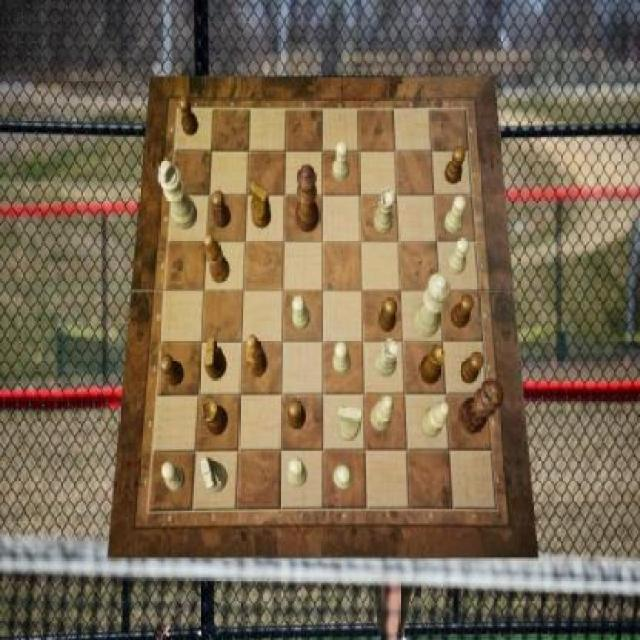bishop: (206, 234, 231, 283), (246, 335, 269, 378)
black-bishop: (458, 378, 504, 434)
black-king: (249, 182, 272, 229), (205, 337, 227, 379)
black-knight: (444, 146, 466, 184), (178, 97, 198, 137), (451, 296, 474, 330), (160, 354, 184, 386), (460, 352, 483, 385), (212, 191, 232, 228), (378, 297, 398, 331), (286, 400, 306, 431)
black-pawn: (296, 166, 320, 234)
black-queen: (420, 344, 446, 384), (202, 399, 228, 436)
black-rook: (422, 402, 451, 439), (370, 395, 394, 433)
white-bishop: (158, 160, 198, 231)
white-king: (200, 457, 228, 493), (338, 406, 362, 441)
white-knight: (445, 195, 467, 233), (448, 238, 470, 274), (162, 462, 186, 492), (334, 143, 351, 182), (292, 295, 310, 330), (288, 457, 308, 488), (334, 342, 351, 376), (334, 465, 354, 490)
white-pawn: (414, 272, 451, 338)
white-queen: (374, 338, 398, 377), (374, 188, 394, 234)
